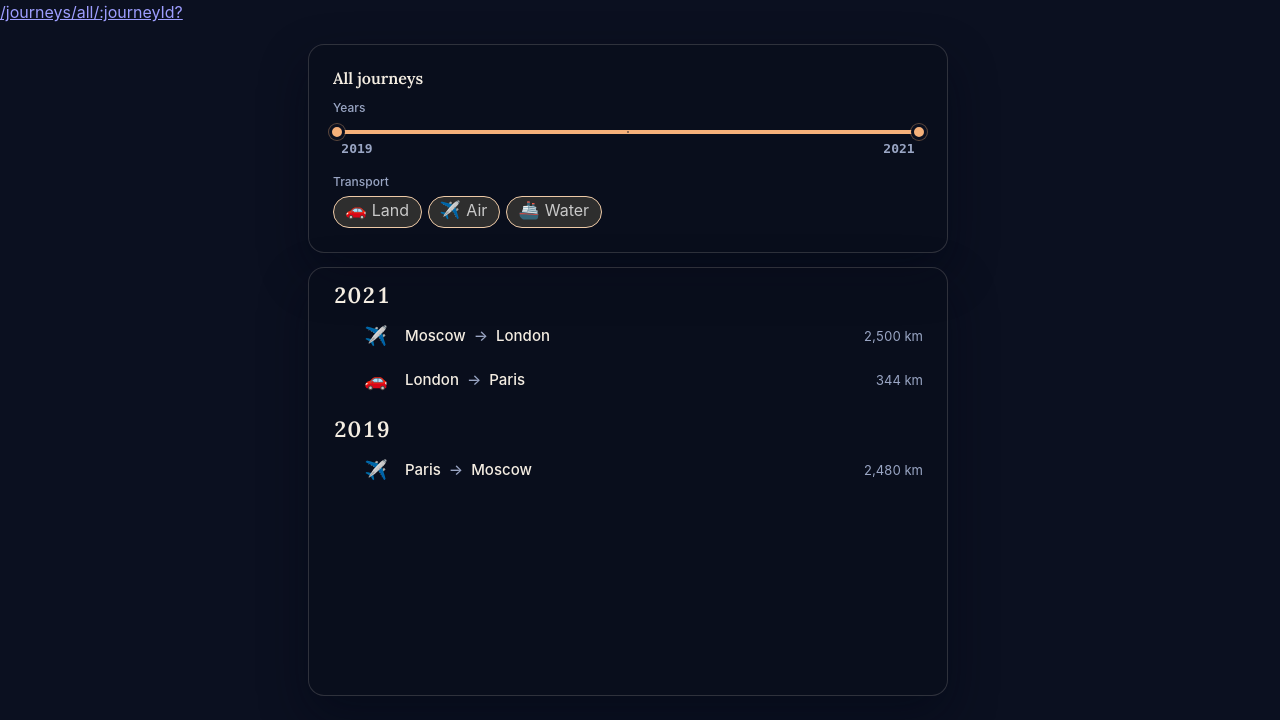
Test: AllJourneysView — правка в карточке поездки › транспорт из меню сохраняется сразу: PUT со всей поездкой и «Saved · Undo»
The width and height of the screenshot is (1280, 720).
Click the link named "Moscow to London": (435, 336) [365,325,923,347]
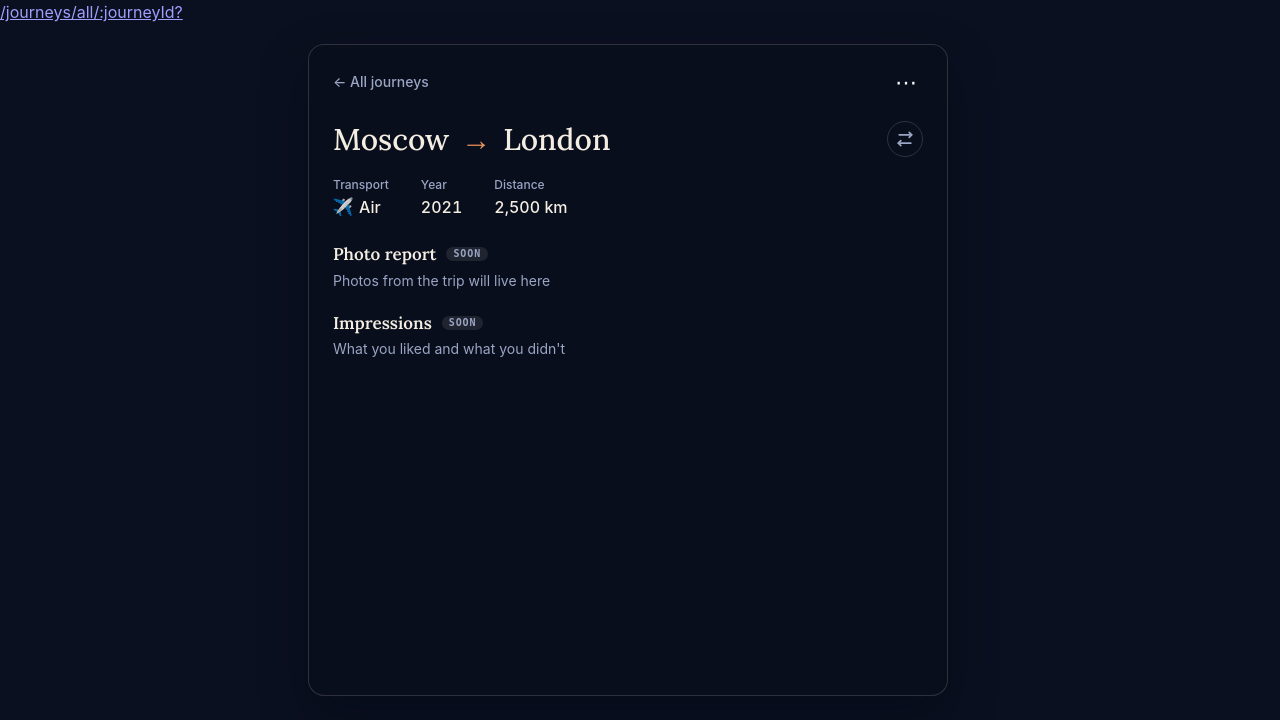
Expected: the heading named "Moscow to London" is shown, [327,119,616,175]
Click the button "Air": (357, 210) [327,194,387,225]
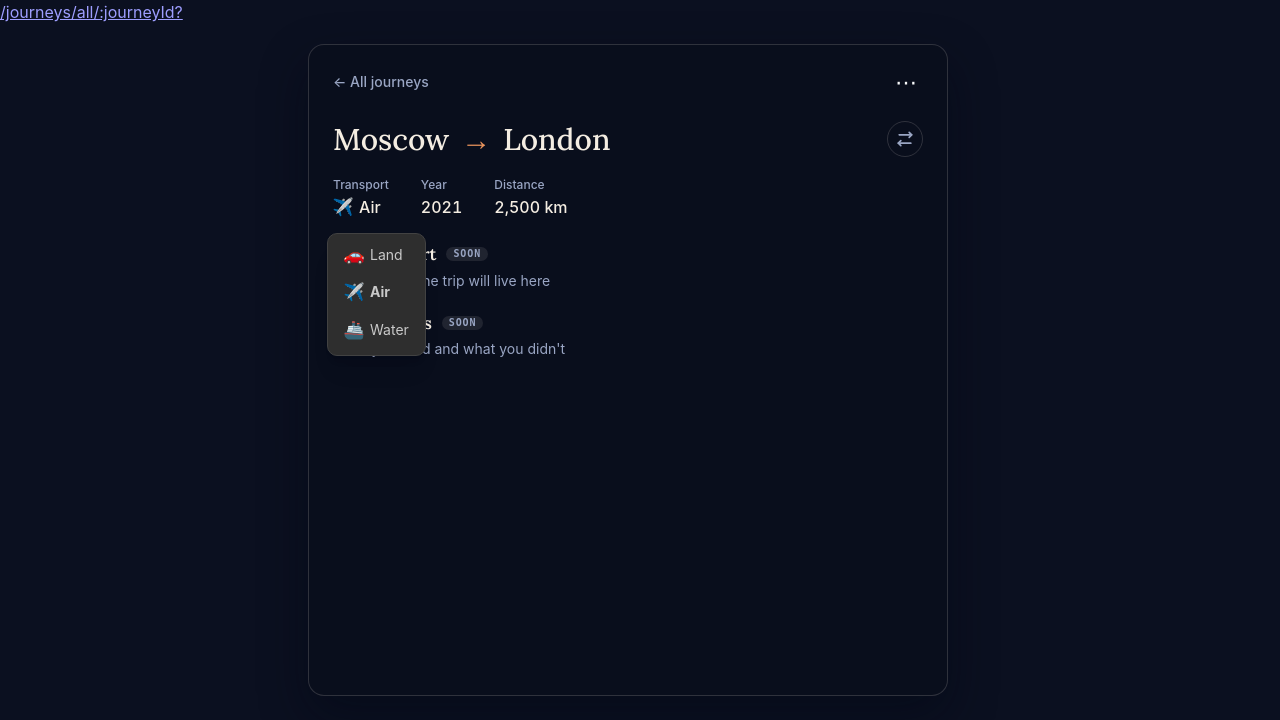
Click the menu item "Water": (376, 332) [332,313,421,351]
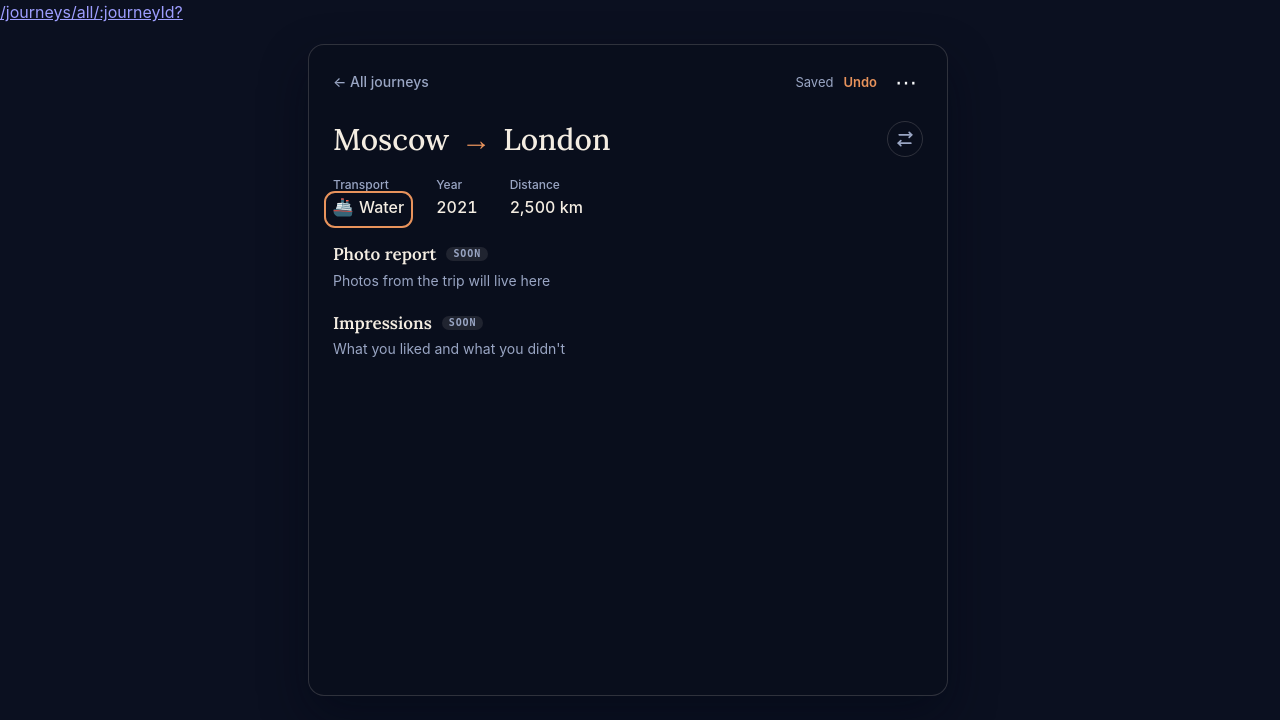
Result: the text "Saved" is shown at [795,74,833,90]
Result: the button "Water" is shown at [327,194,410,225]
